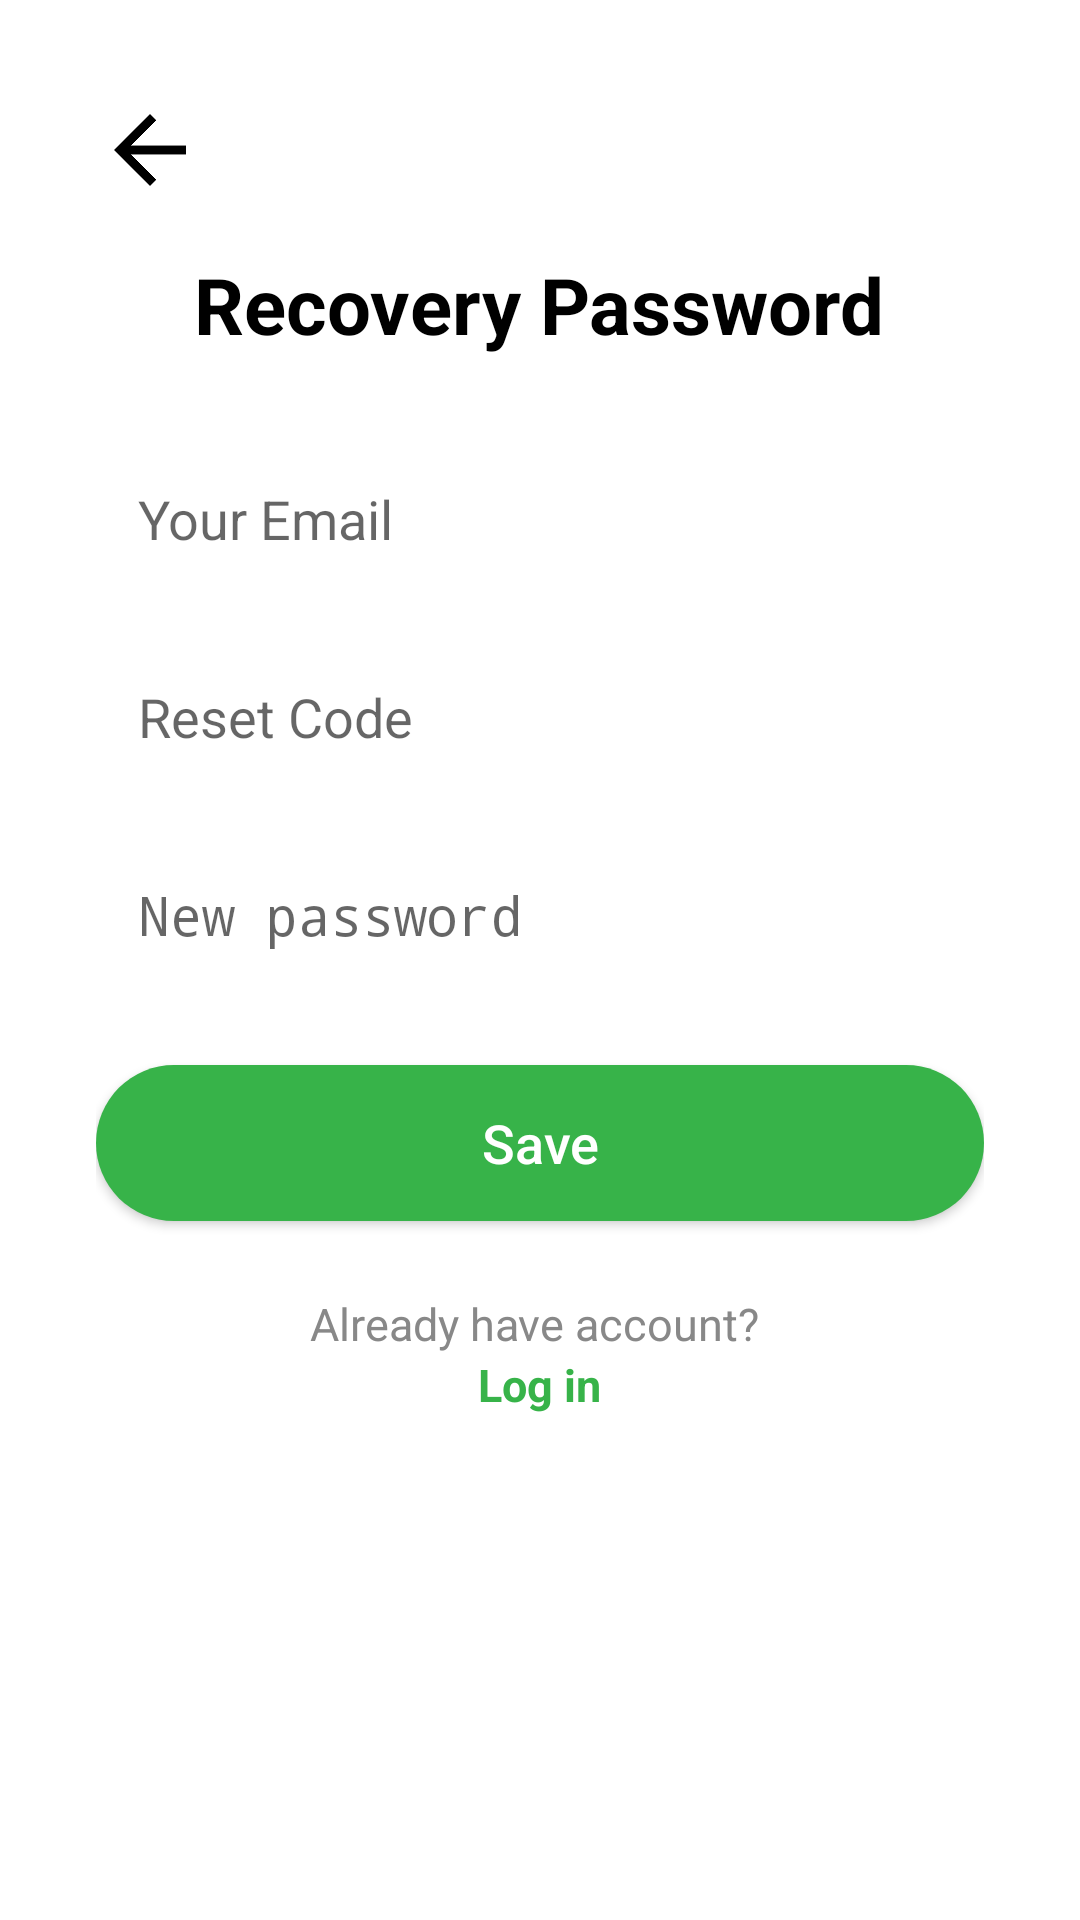

Where to tap for icons on this 1080×1920 app screen, as (x=x, y=y):
back: (x=150, y=150)
